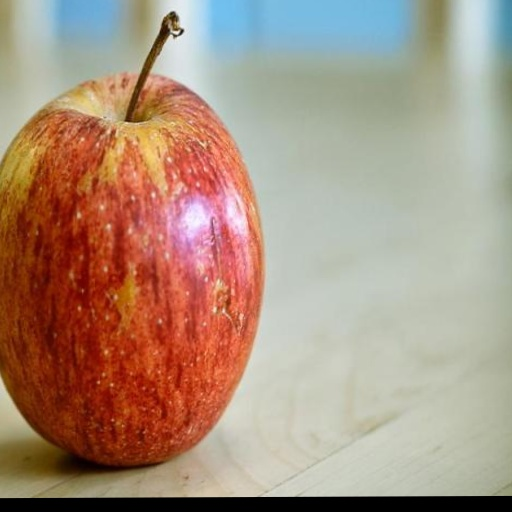fruit: (0, 73, 263, 465)
